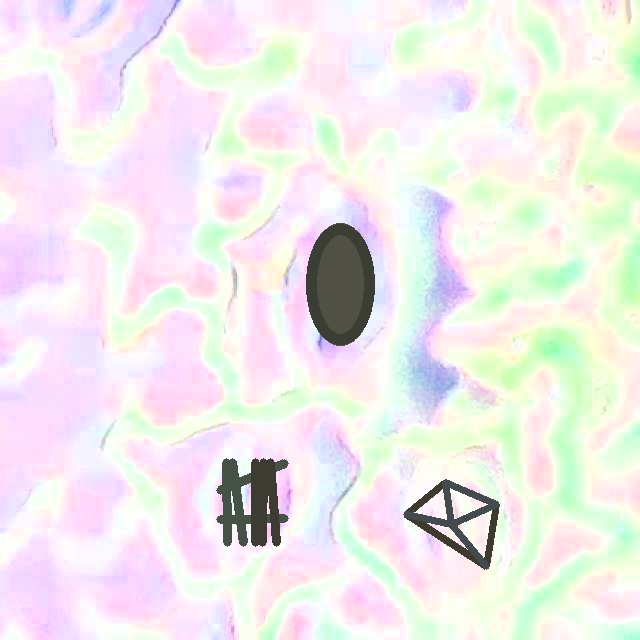open: (403, 479, 499, 568), (307, 223, 374, 345), (216, 458, 287, 546)
